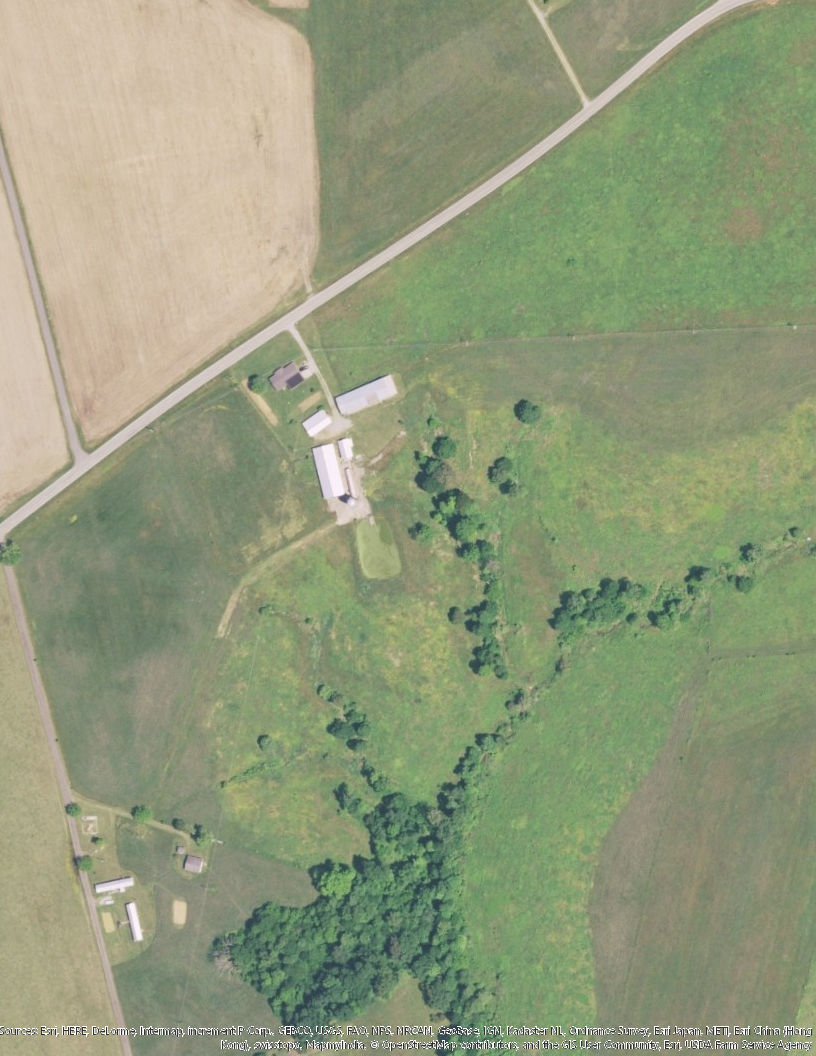cafo: (313, 433, 358, 509), (332, 374, 401, 414), (304, 412, 330, 434)
